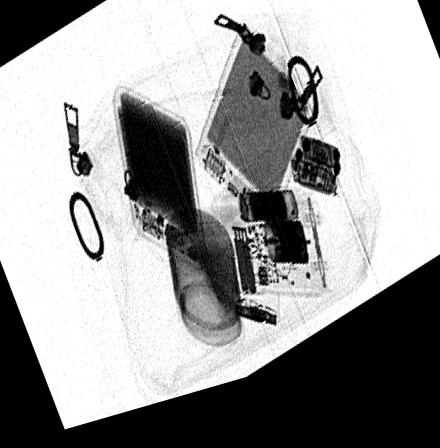Powerbank: (190, 34, 313, 257), (111, 92, 206, 282)
